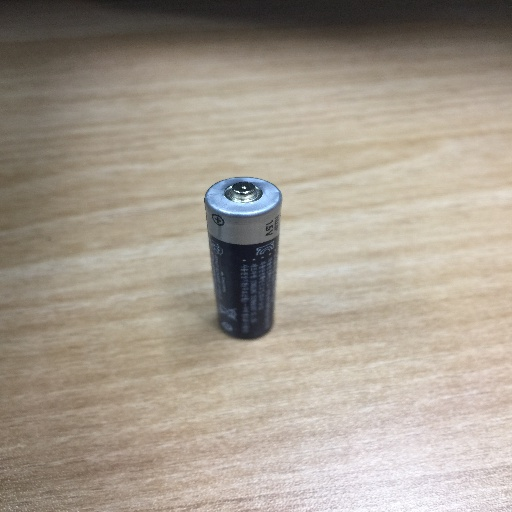Battery_0: (197, 163, 290, 361)
